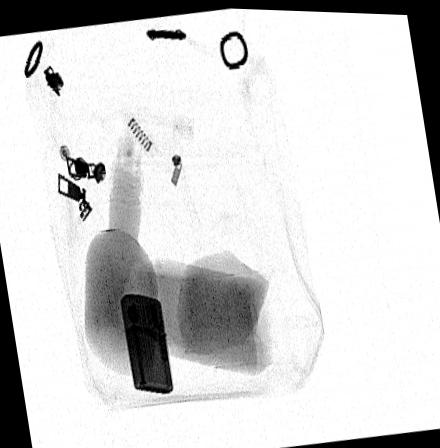Lighter: (118, 290, 174, 393)
